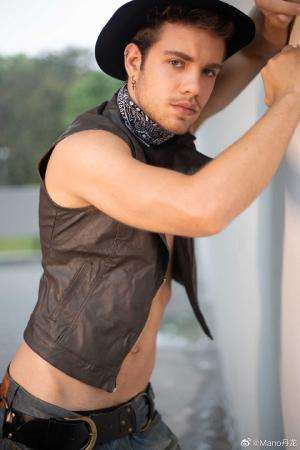person: (38, 9, 298, 441)
